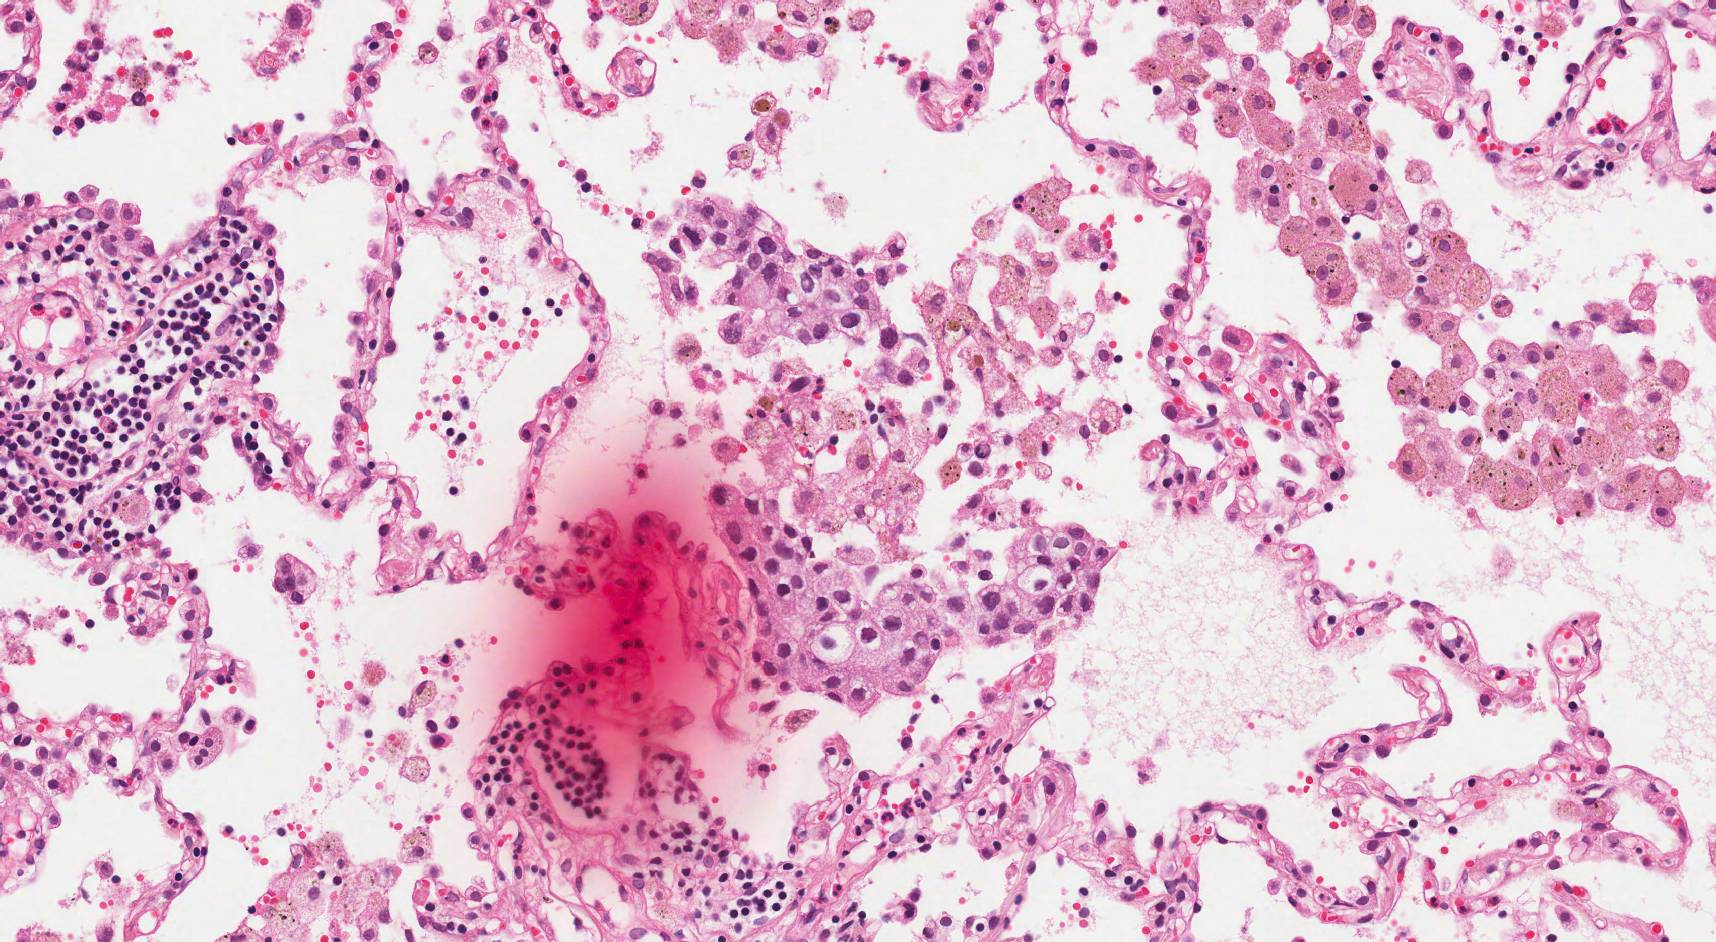stas: (708, 480, 1117, 716), (642, 188, 932, 395)
